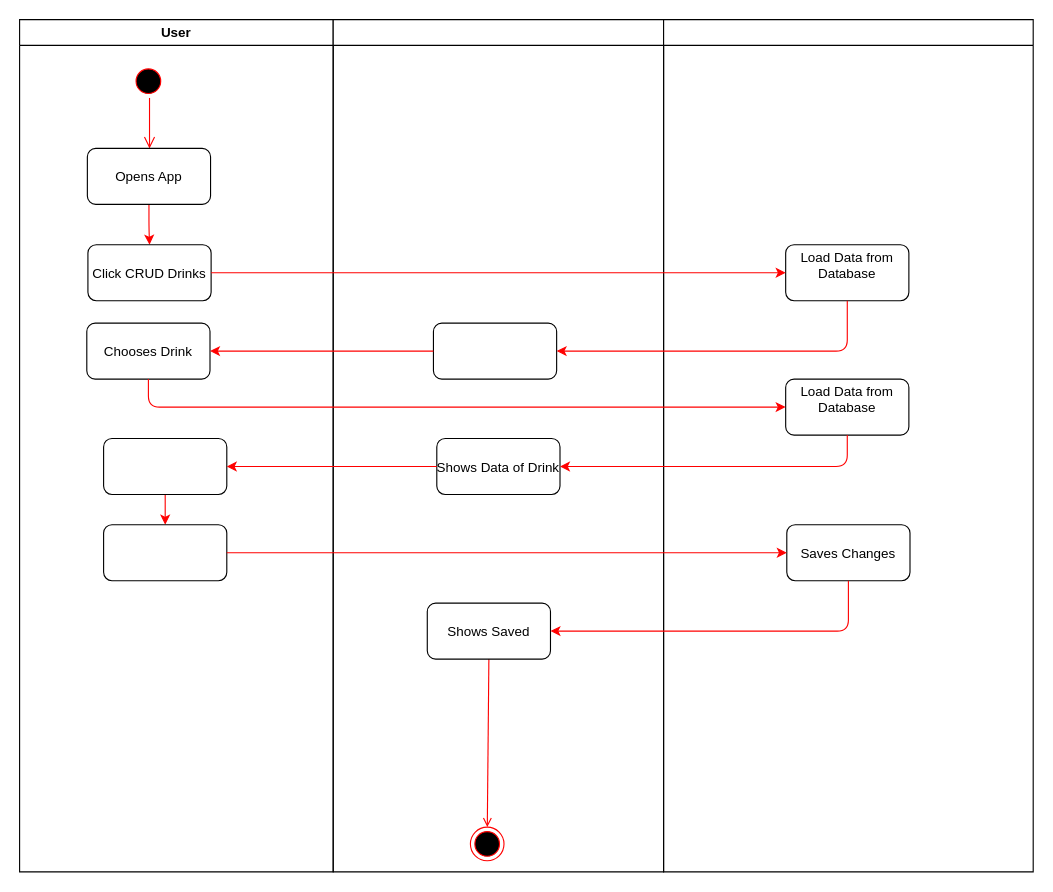
This 1053x892 diagram has some shape labels left out. Each missing label, with the box of its shape:
Backend: (662, 18, 1033, 872)
Clicks Save: (102, 524, 227, 581)
Edits / Deletes Drink: (102, 437, 227, 494)
Shows Drink List: (432, 322, 557, 379)
UI: (332, 18, 664, 872)
